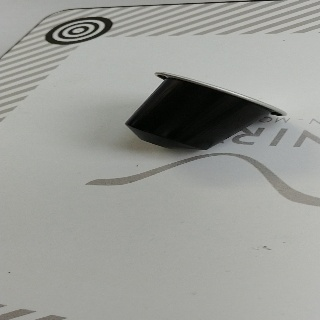capsule_10: (124, 70, 288, 152)
